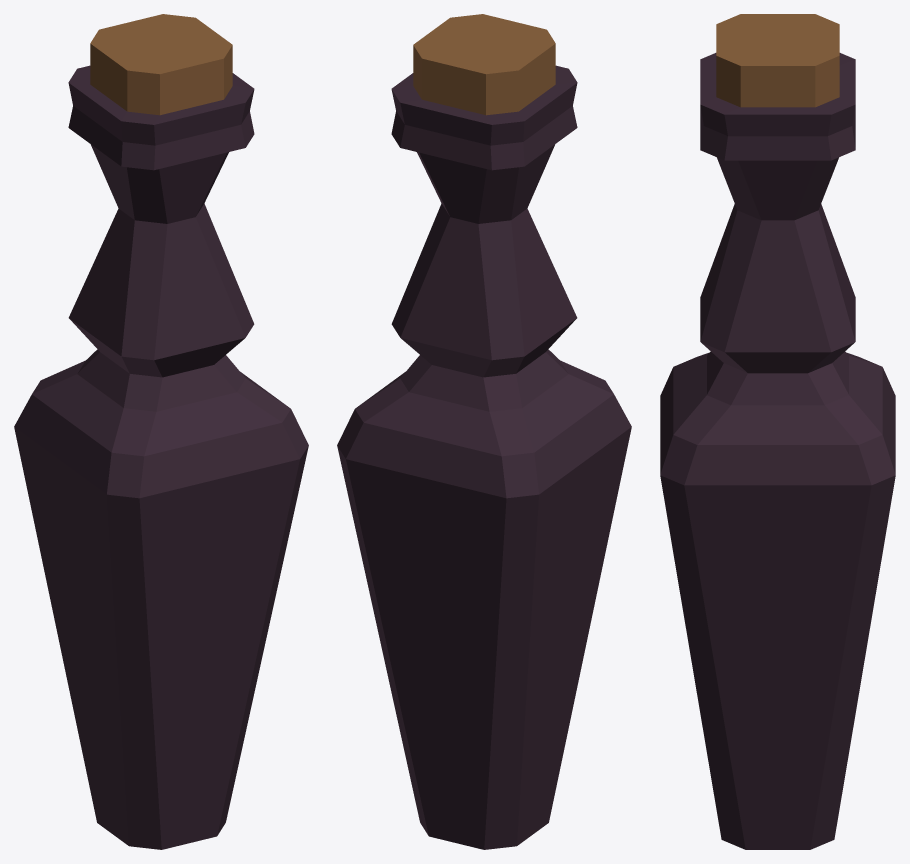
File: Prop_Bottle_1.fbx
3 renders of one model, left to right at view 1: azimuth 30°, elevation 25°; view 2: azimuth 150°, elevation 25°; view 3: azimuth 270°, elevation 25°, orthographic.
Visible parts, largest first — view 1: Prop_Bottle_1; view 2: Prop_Bottle_1; view 3: Prop_Bottle_1.
Boxes of the visible parts, x1,y1,x2,y2 form: Prop_Bottle_1: [14, 14, 308, 849]; Prop_Bottle_1: [337, 14, 631, 849]; Prop_Bottle_1: [660, 14, 895, 849].
Bounding box in the file's own units: 0.2344 × 0.8631 × 0.2344.
1 material, 1 textured.
